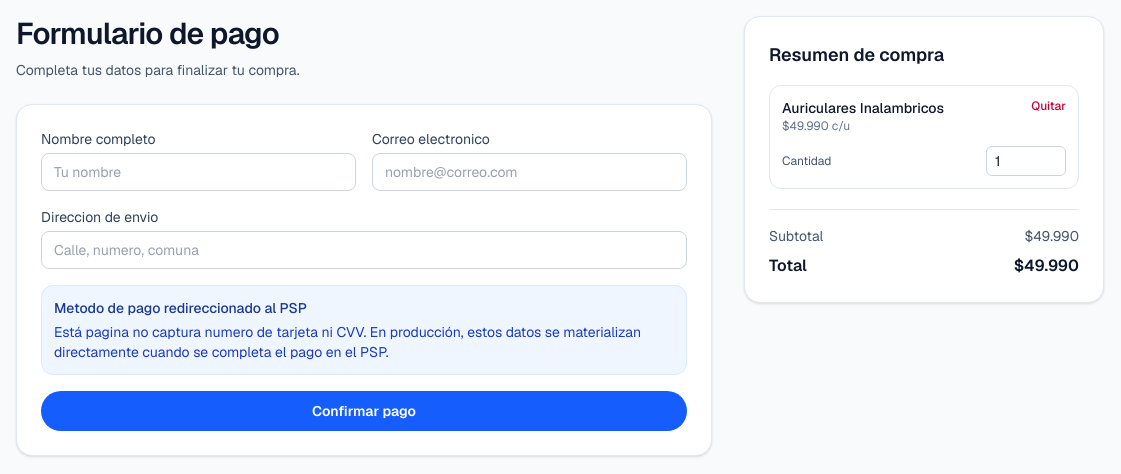
Scenario: Checkout quantity input behavior › elimina el item cuando se confirma cantidad explicita menor a 1
The width and height of the screenshot is (1121, 474).
Step 1. Replace the text in the number field labelled "Cantidad" with "0" → (1026, 161), box 986,146 -> 1066,176
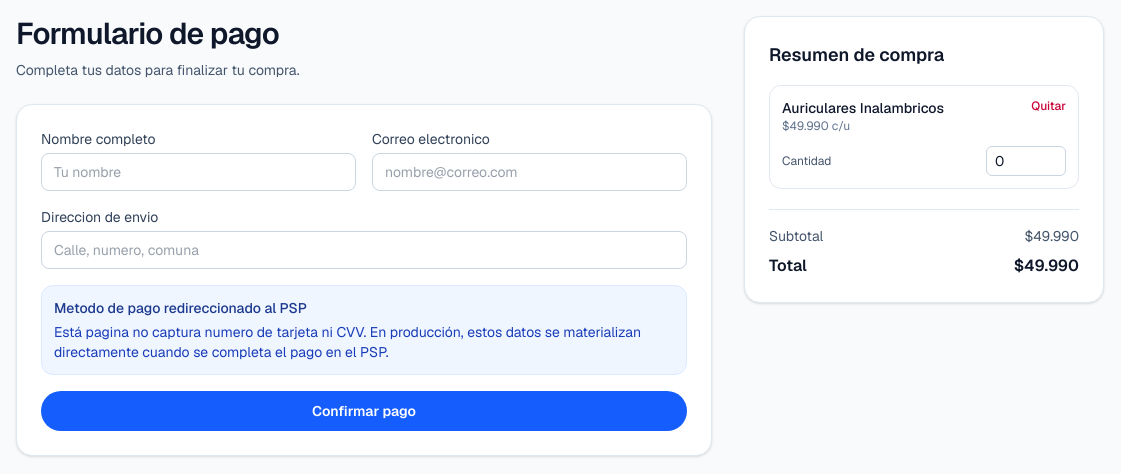
Step 2. Leave the number field labelled "Cantidad", box 986,146 -> 1066,176
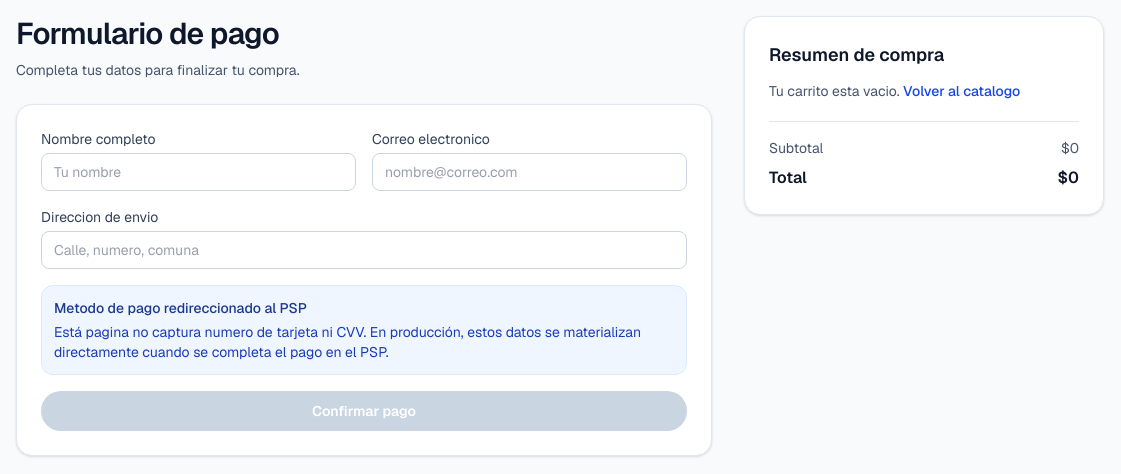
Now the text "Tu carrito esta vacio. Volver al catalogo" is shown, box 769,82 -> 1020,100
